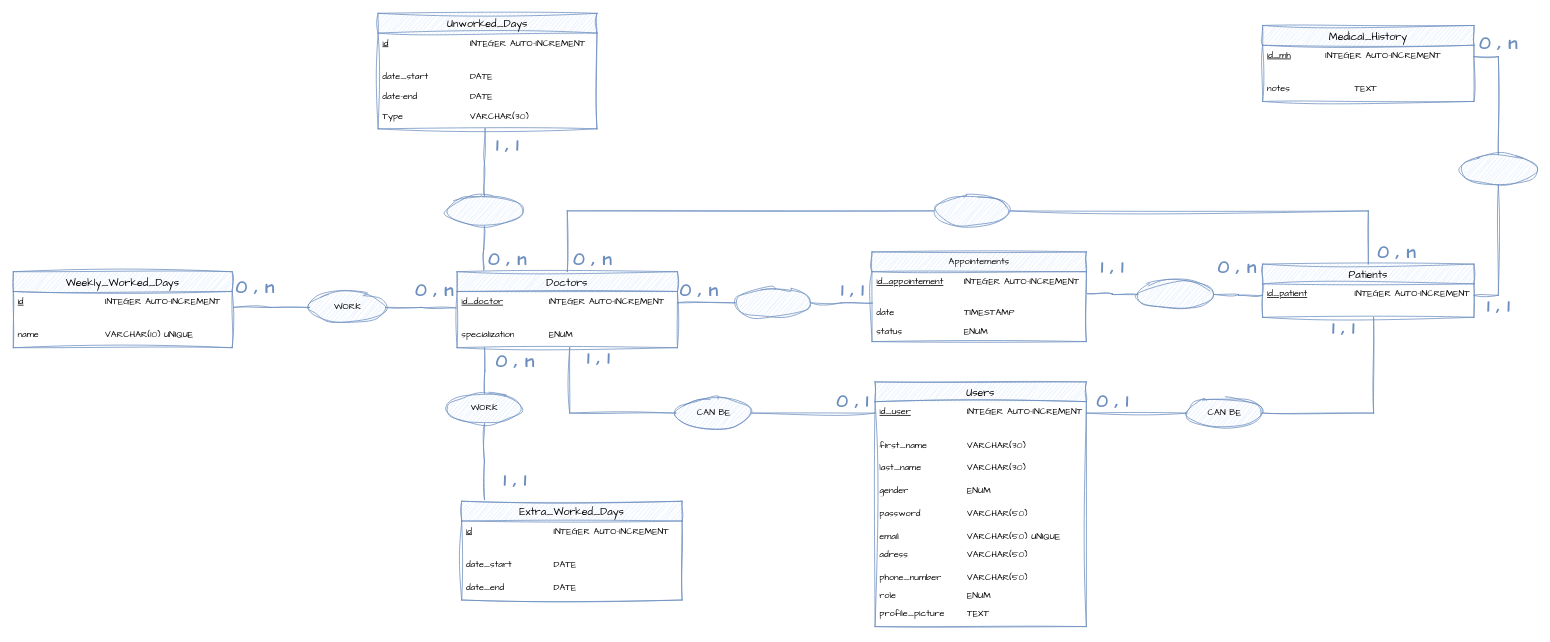
The diagram is 1550 pixels wide and 642 high, and some of its shapes have lost their labels. Each missing label, with the centre of its shape:
HAS: [1498,169]
IS ABSENT: [484,210]
PROVIDES: [773,302]
RESERVE: [1175,294]
TAKES CARE: [971,210]
